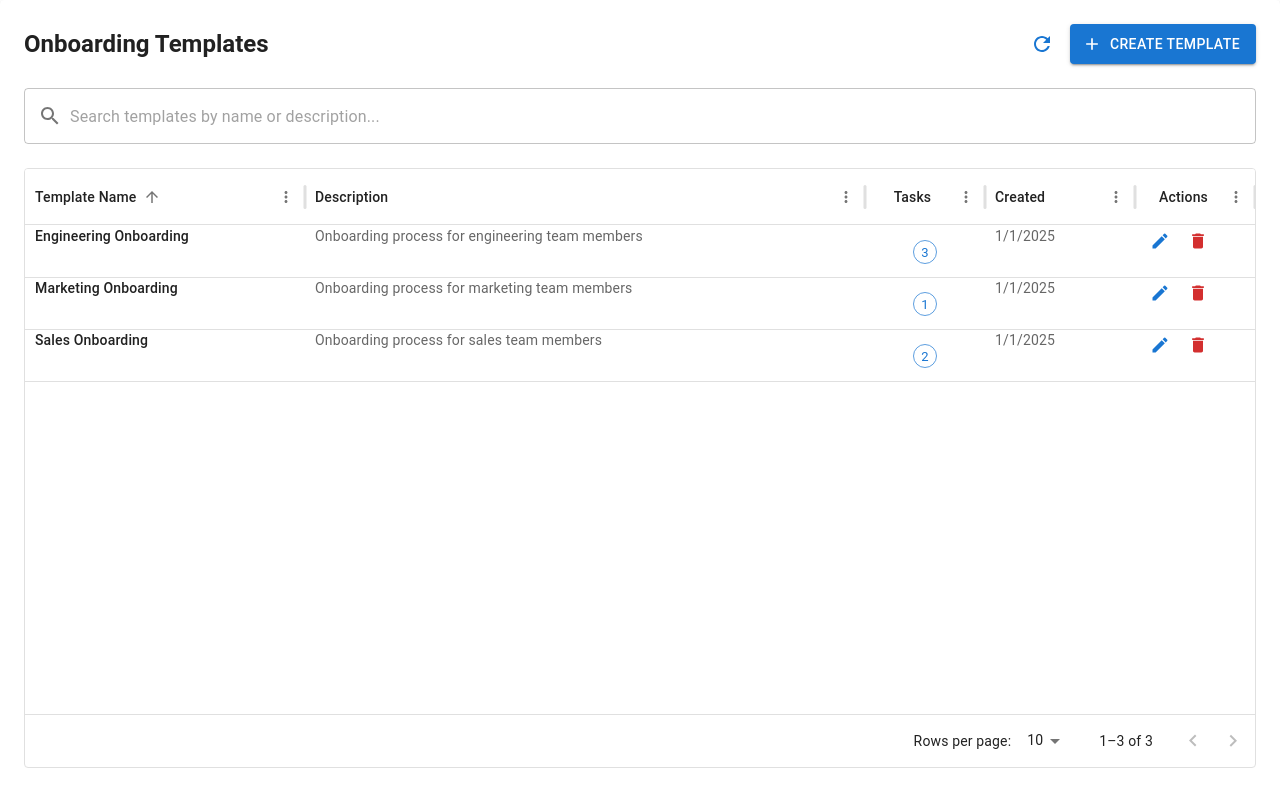
TemplateList Component › Search Functionality › shows no results message when search has no matches
expect the text "Engineering Onboarding" is shown: met, box left=35, top=228, right=189, bottom=244
Type "nonexistent template" into the field with placeholder "Search templates by name or description...".
click(663, 116); type("nonexistent template")  # box left=70, top=88, right=1256, bottom=144
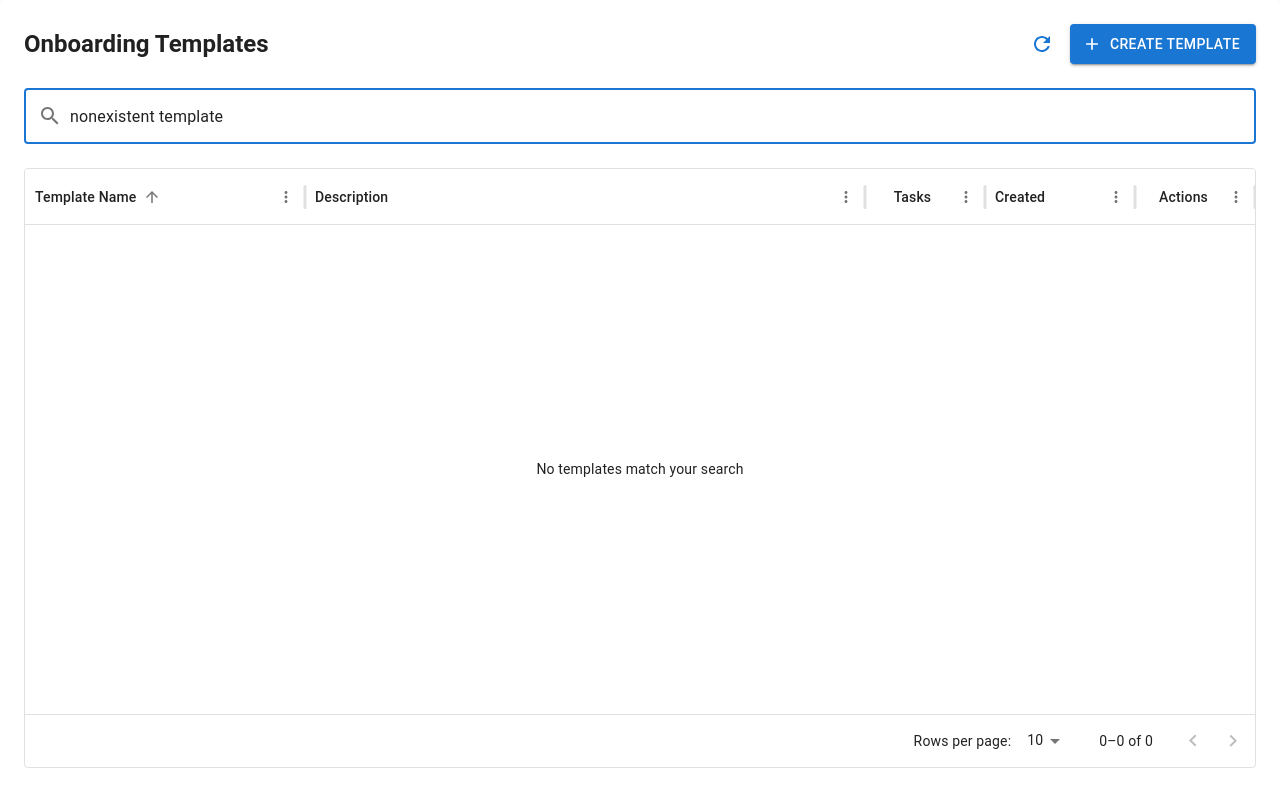
expect the text "No templates match your search" is shown: met, box left=25, top=225, right=1255, bottom=714
